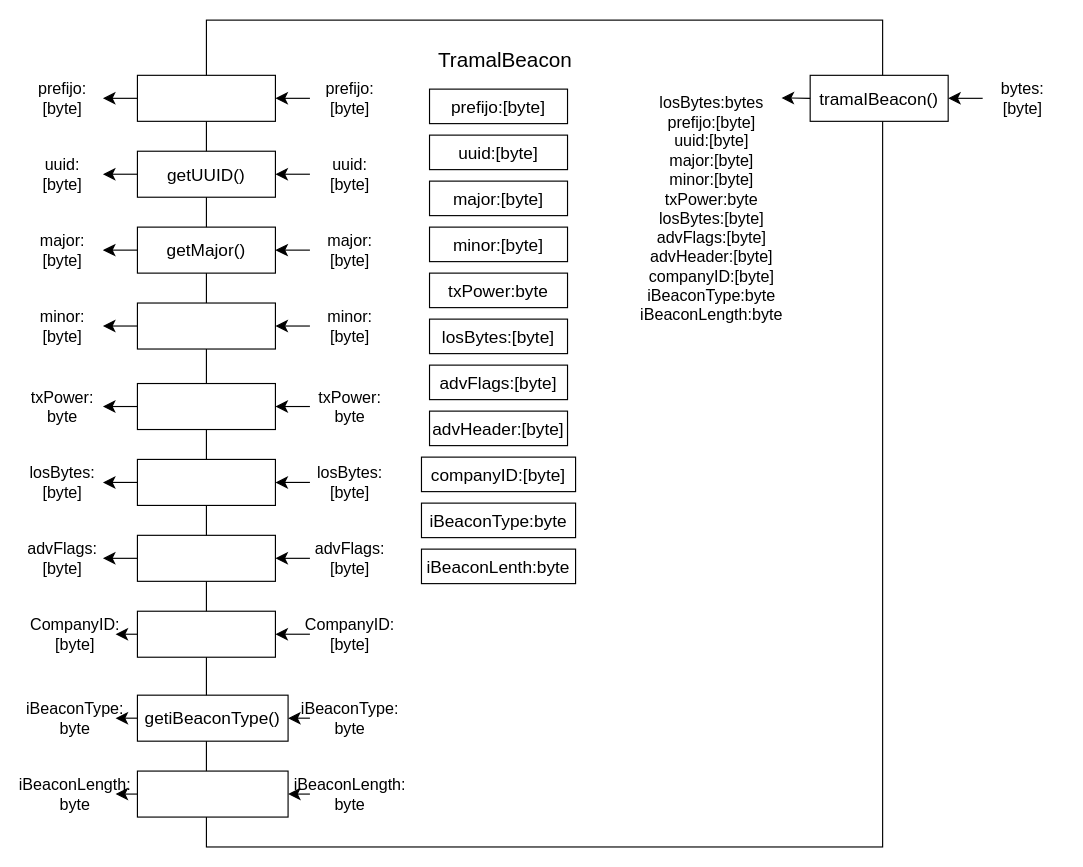
Image size: 1083x867. Some labels were removed from this diagram. Each missing label, with the box of its shape:
getAdvFlags(): (136, 534, 275, 581)
getCompanyID(): (136, 610, 275, 657)
getiBeaconLength(): (136, 770, 288, 817)
getLosBytes(): (136, 458, 275, 505)
getMinor(): (136, 302, 275, 349)
getPrefijo(): (136, 74, 275, 121)
getTxPower(): (136, 382, 275, 430)
